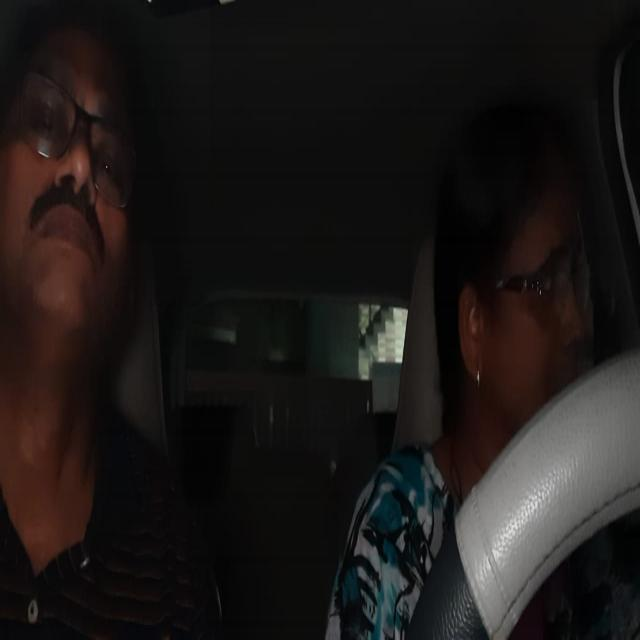person: (433, 99, 593, 459), (4, 11, 146, 367)
